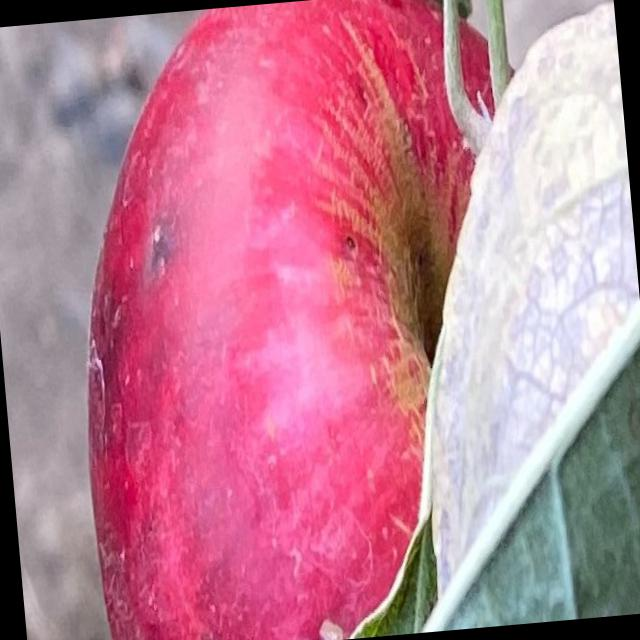Apples: (46, 0, 563, 639)
